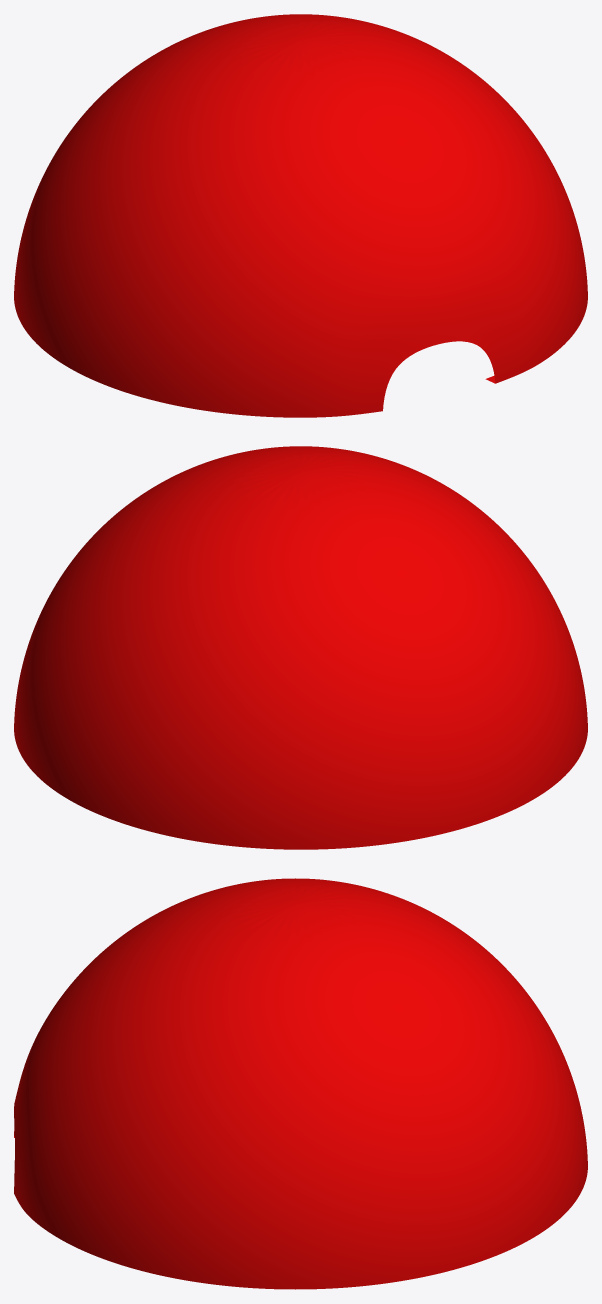
Rendered from PokeBall_Top.fbx.
The picture shows the model from 3 angles, top to bottom: view 1: azimuth 30°, elevation 25°; view 2: azimuth 150°, elevation 25°; view 3: azimuth 270°, elevation 25°; orthographic projection.
Visible parts, largest first — view 1: polySurface12; view 2: polySurface12; view 3: polySurface12.
Part boxes in pixels (bbox=[...]): polySurface12: bbox=[14, 14, 587, 417]; polySurface12: bbox=[14, 446, 587, 849]; polySurface12: bbox=[14, 878, 587, 1289].
Bounding box in the file's own units: 280 × 138 × 275.
